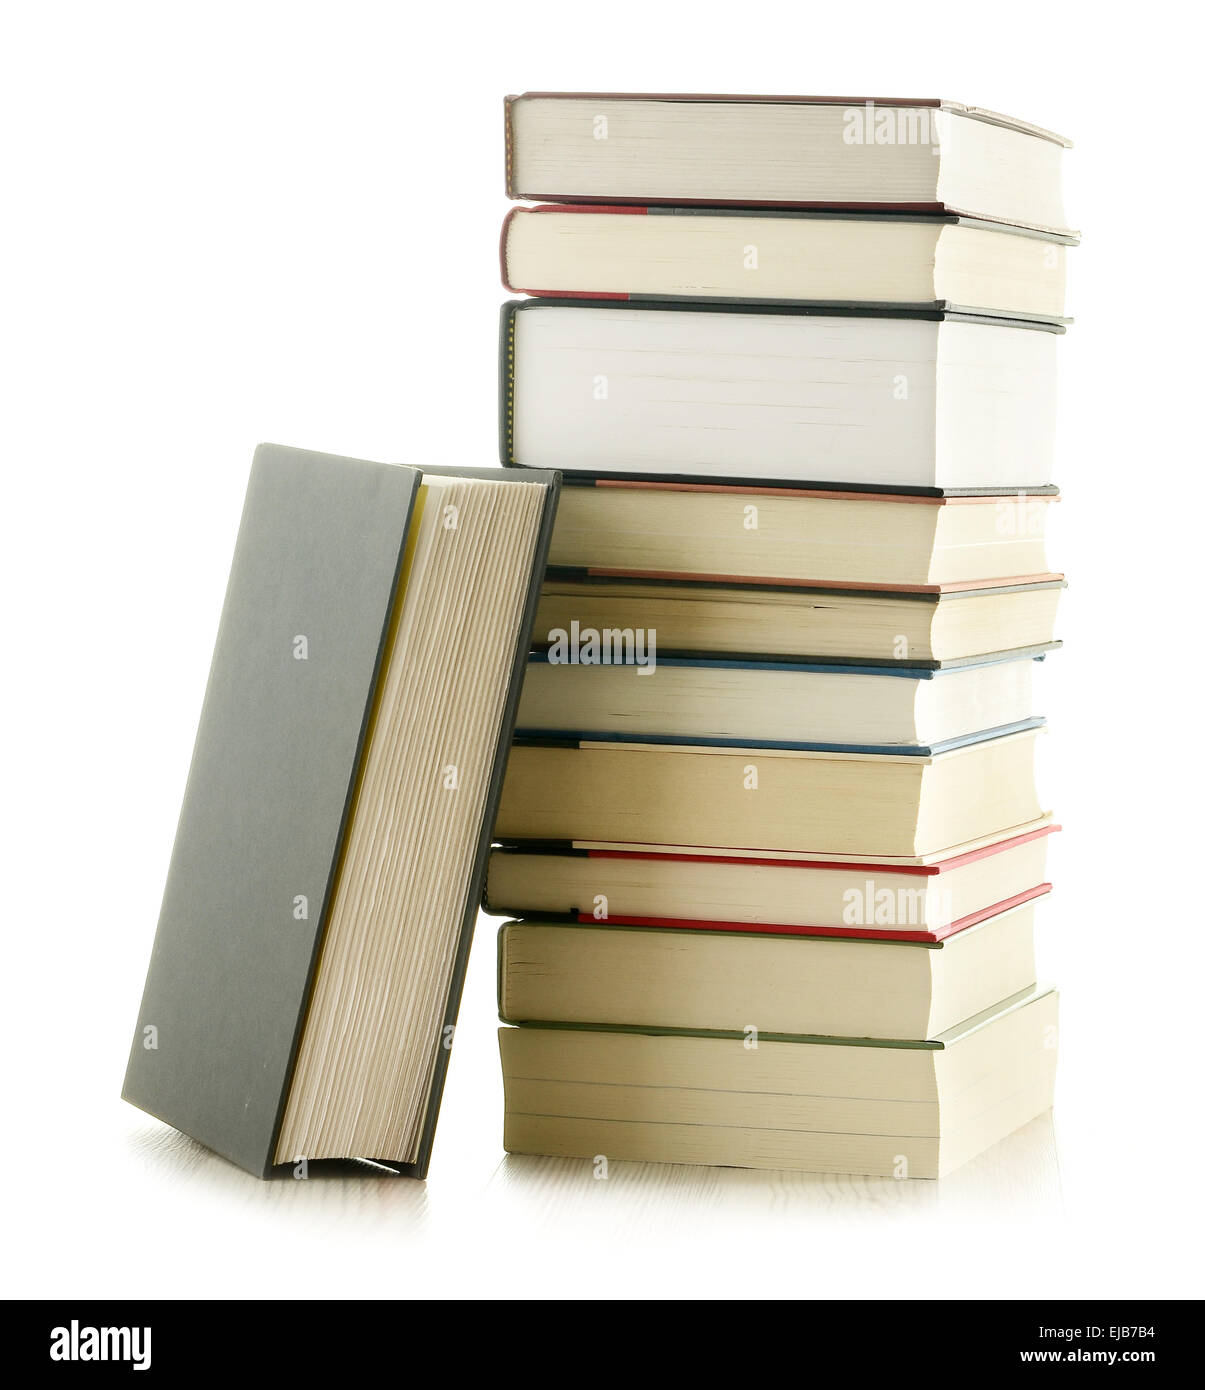book: (123, 38, 1099, 1230)
